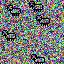sheep: (7, 4, 22, 16), (36, 15, 50, 27), (2, 29, 16, 41), (29, 1, 44, 12), (31, 53, 45, 64)
